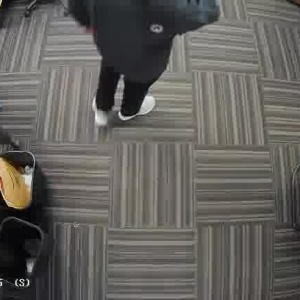person: (76, 0, 191, 128)
